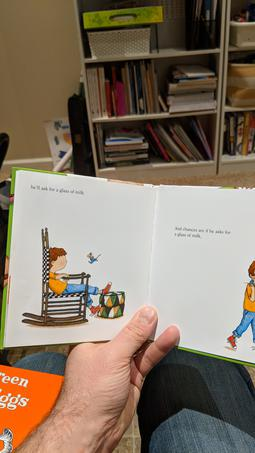text block: (23, 178, 88, 200), (170, 223, 235, 242)
